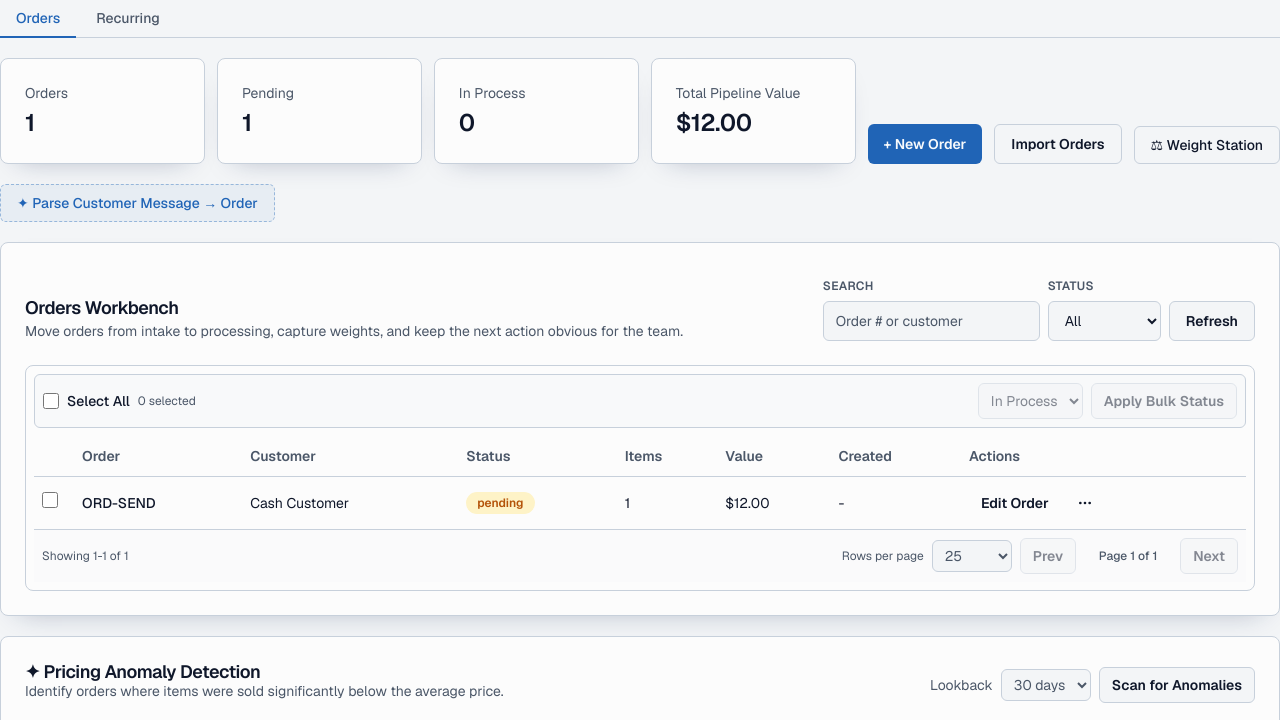
Test: OrdersPage › sends a pending order to processing and opens a print window
Expected: the text "ORD-SEND" is shown, x1=82 y1=494 x2=156 y2=512
Click the button named "Actions for ORD-SEND".
click(1085, 502)  # box x1=1065 y1=484 x2=1105 y2=520
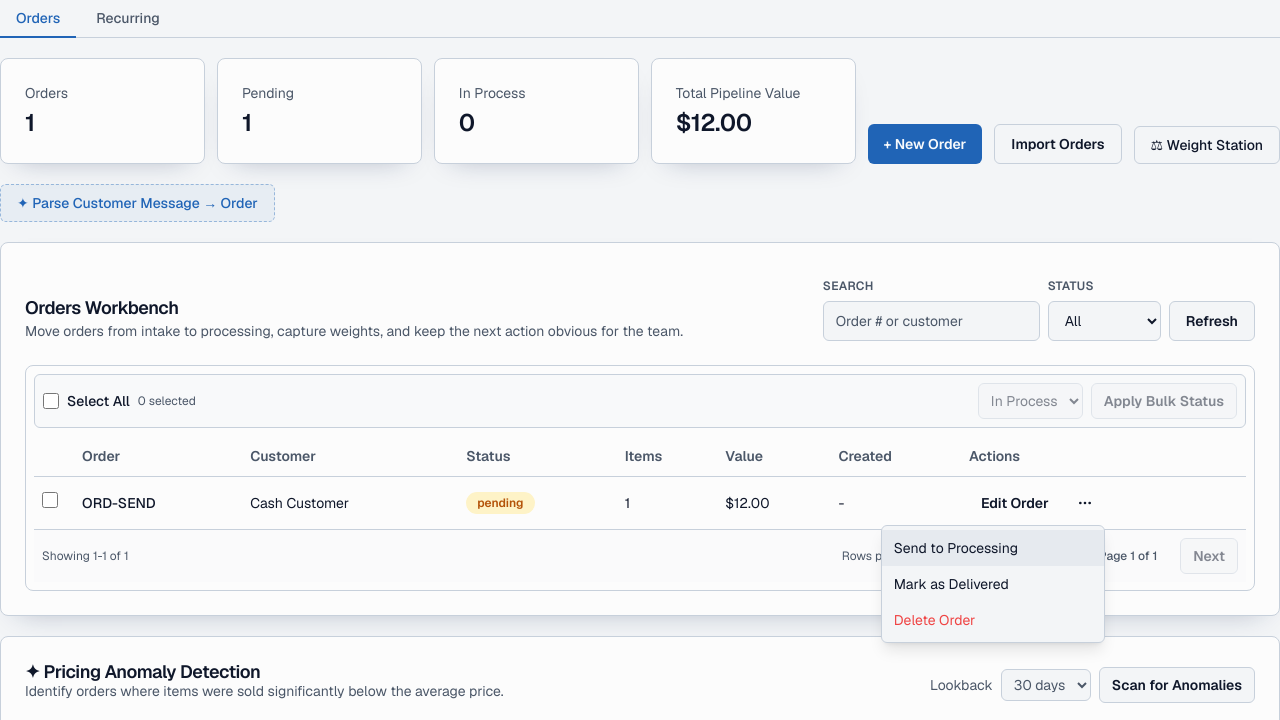
Click the menu item "Send to Processing".
click(993, 548)  # box x1=882 y1=530 x2=1104 y2=566
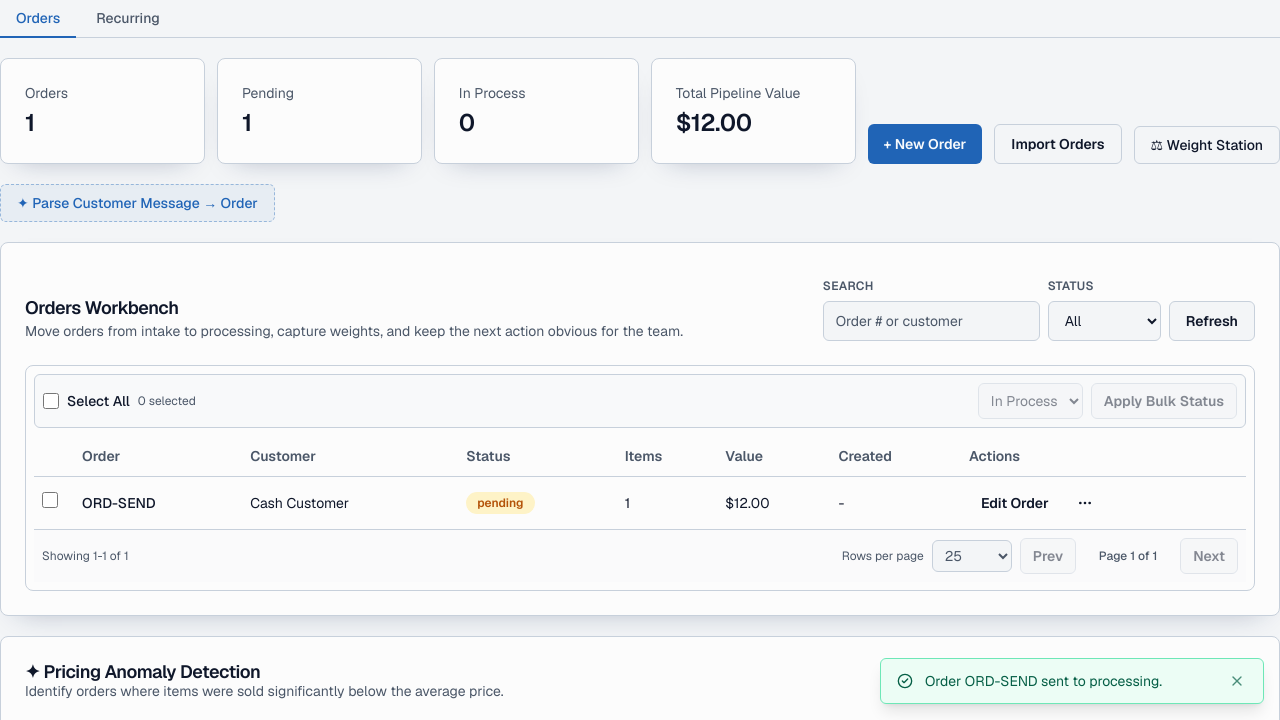
Expected: the text "Order ORD-SEND sent to processing." is shown, x1=925 y1=672 x2=1162 y2=690
